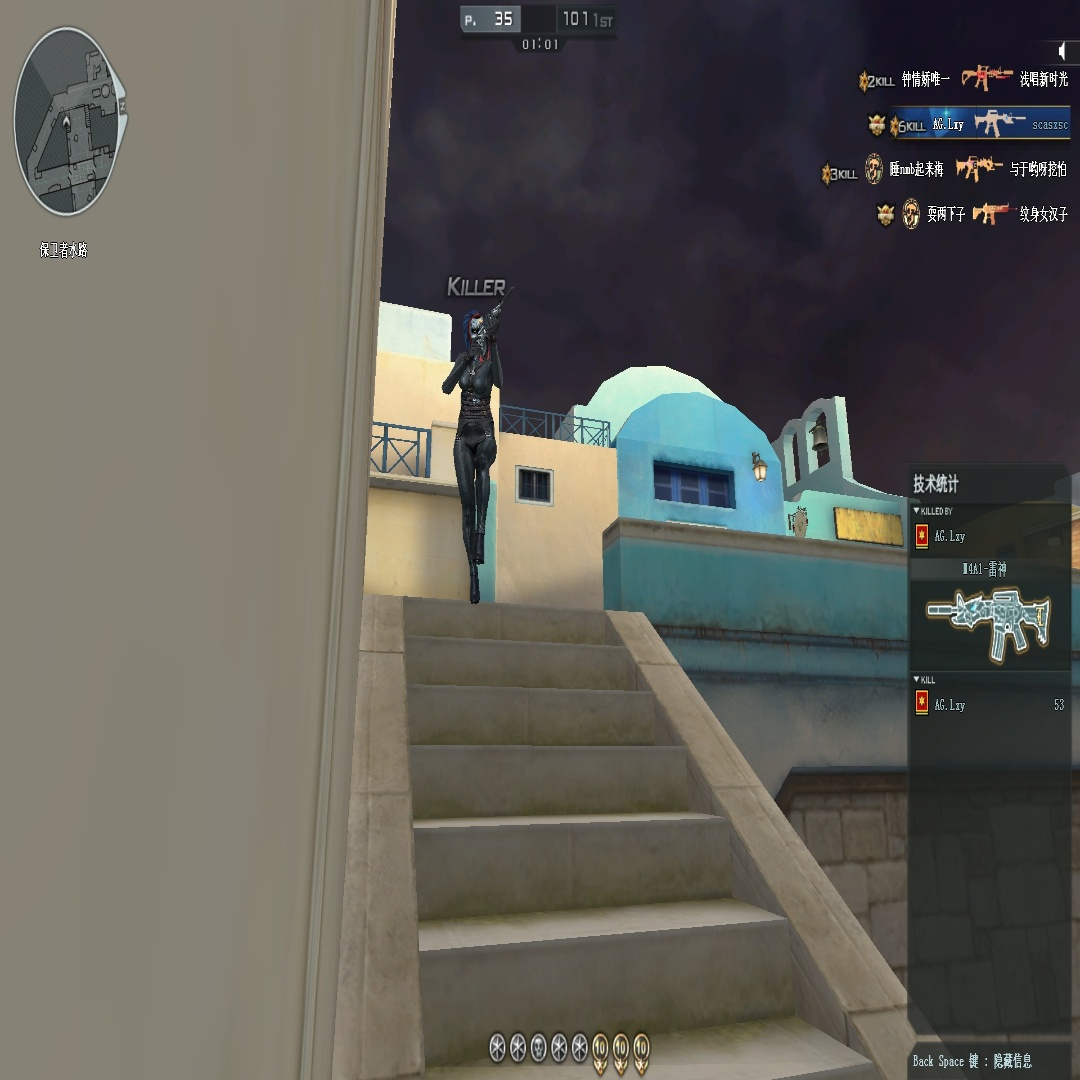p: (442, 298, 504, 601)
